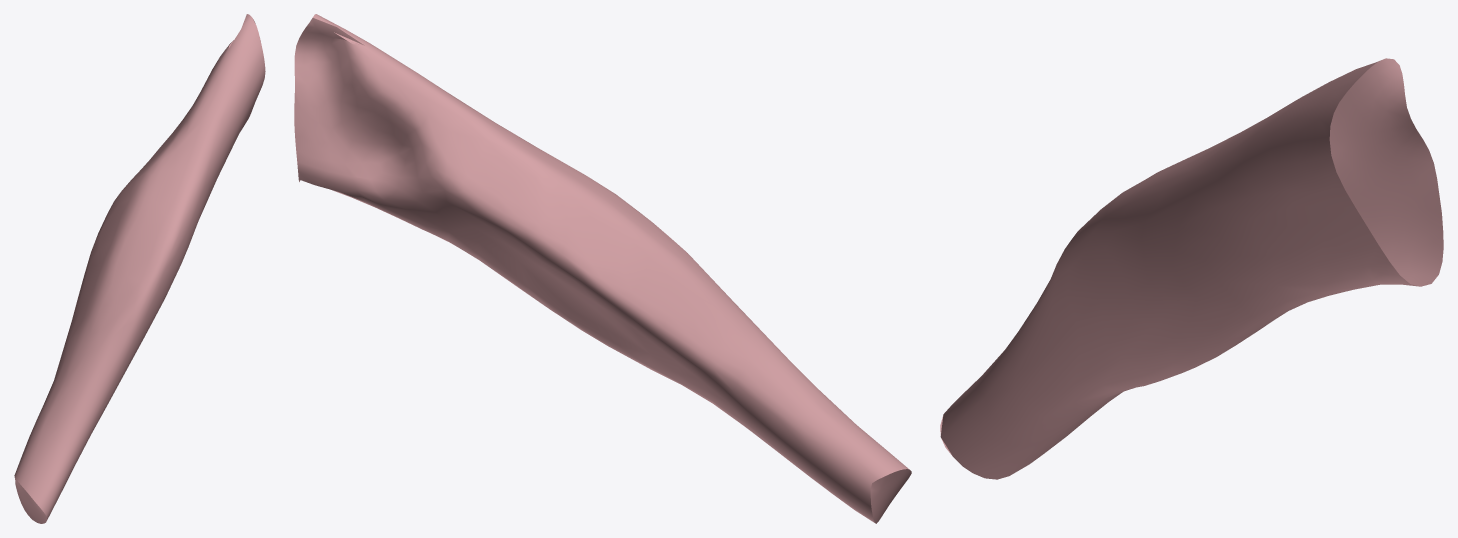
The model's file is fma65234_mm1956.glb.
3 renders of one model, left to right at view 1: azimuth 30°, elevation 25°; view 2: azimuth 150°, elevation 25°; view 3: azimuth 270°, elevation 25°, orthographic. The views are drawn at different scales.
Parts seen in each view (by area): view 1: FMA65234_MM1956; view 2: FMA65234_MM1956; view 3: FMA65234_MM1956.
Part boxes in pixels (x1,y1,x2,y2): FMA65234_MM1956: (14,14,265,523); FMA65234_MM1956: (294,14,911,523); FMA65234_MM1956: (940,58,1443,479).
Bounding box in the file's own units: 0.0289 × 0.03 × 0.0189.
